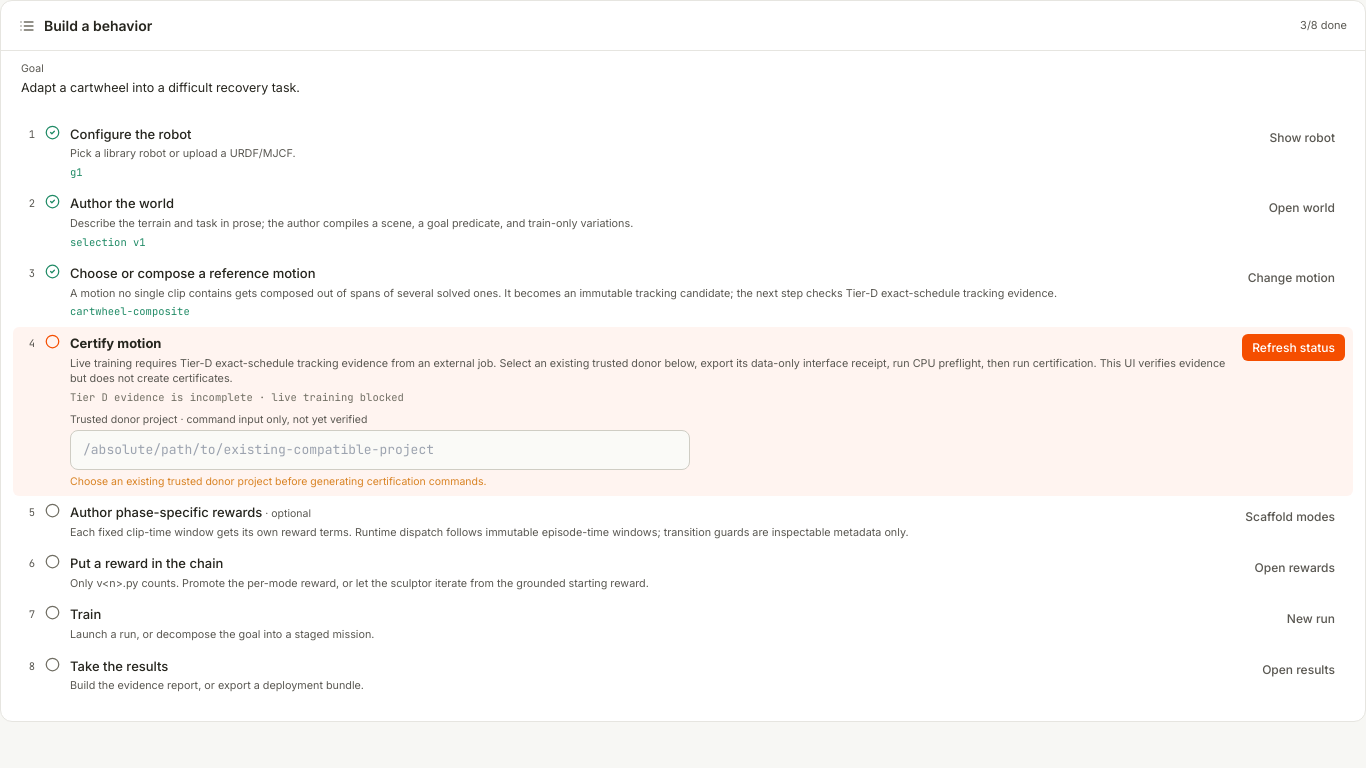
it: BehaviorFlow reference-motion readiness › fails closed when an admitted response lacks an exact digest receipt
Expected: the text "Tier D evidence is incomplete · live training blocked" is shown, [70,390,404,404]
Step 1. Type "/research/projects/g1-trusted-locomotion" into the field named "Trusted Tier-D donor project" → (380, 450), box [70,430,690,470]
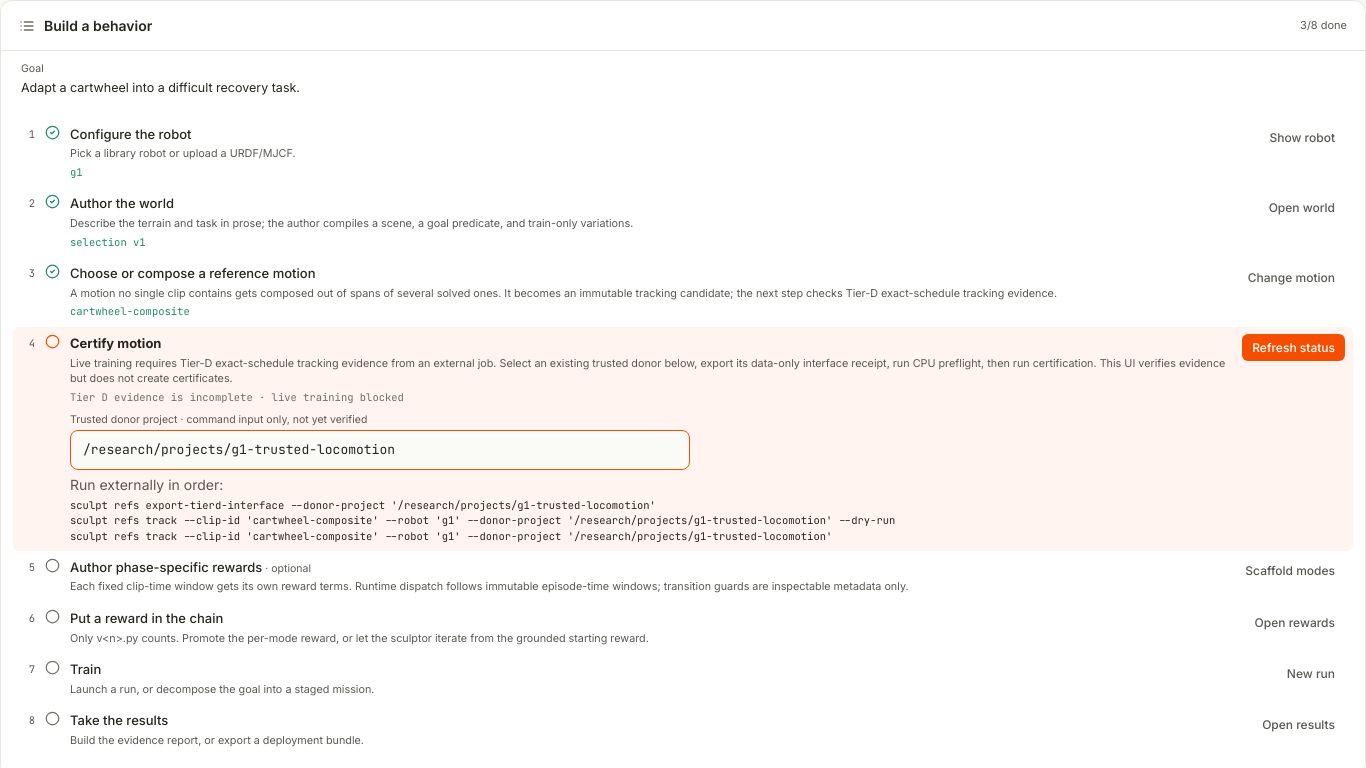
Expected: the button "Refresh status" is enabled, [1242,334,1345,361]
Expected: the element named "External certification command" is shown, [70,476,895,543]
